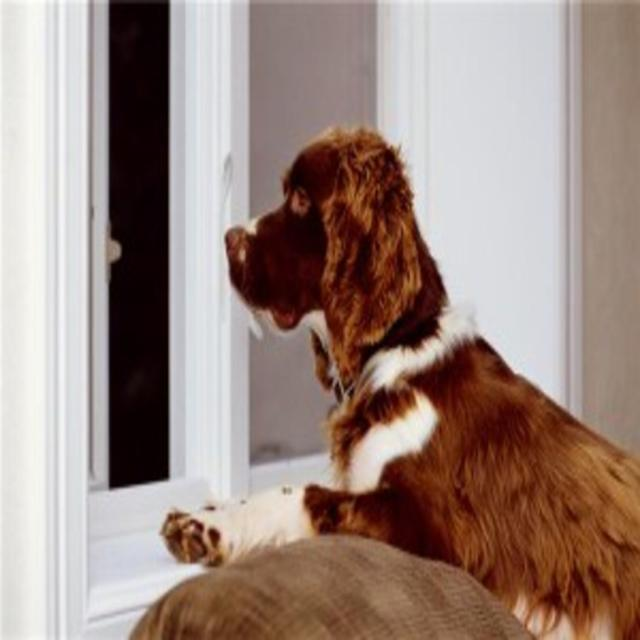Dog: (160, 125, 640, 639)
